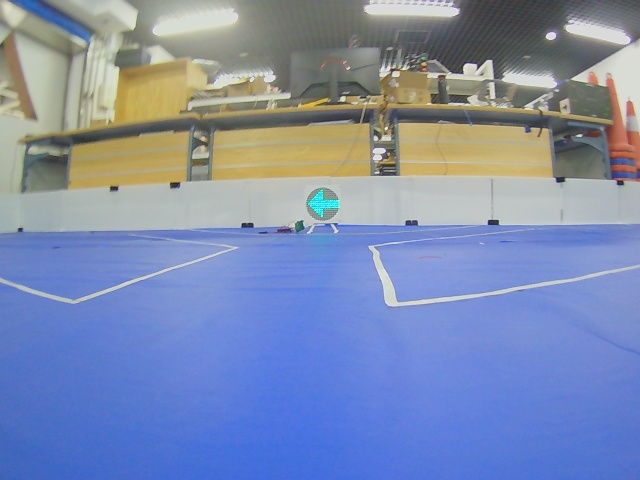left_green: (306, 188, 340, 221)
